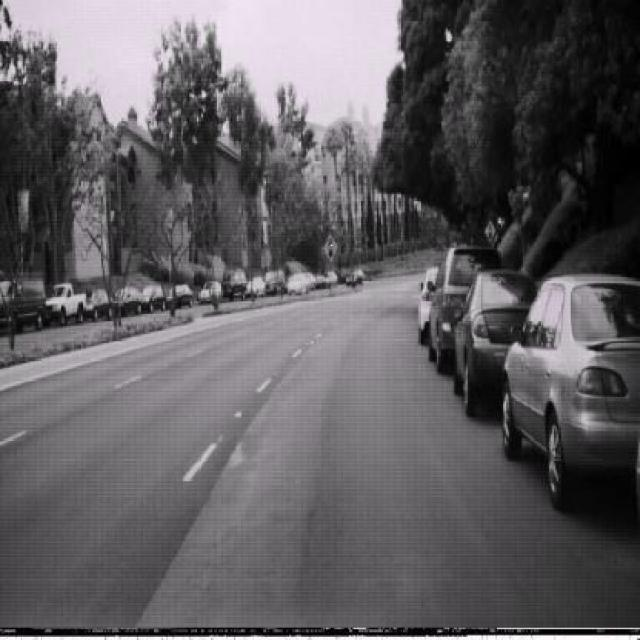signalAhead: (322, 231, 338, 263), (483, 217, 497, 244)
